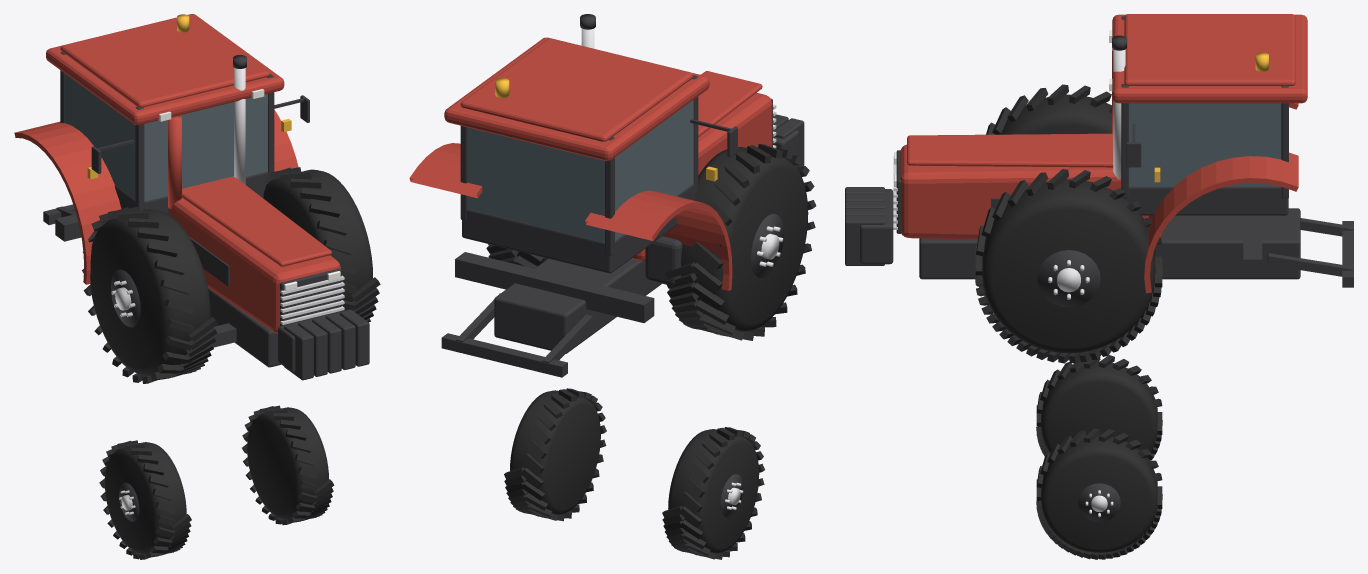
Rendered from Tractor.fbx.
The picture shows the model from 3 angles, left to right: view 1: azimuth 30°, elevation 25°; view 2: azimuth 150°, elevation 25°; view 3: azimuth 270°, elevation 25°; orthographic projection. The views are drawn at different scales.
Parts seen in each view (by area): view 1: RoofCap, GlassFront, Hood, WheelRL_Tire, HoodTop, WheelRL_Wall, Fender-1, Roof, WheelRR_Tire, GlassL, WheelRL_LugsL, WheelFR_Wall (+29 smaller); view 2: RoofCap, GlassBack, Chassis, WheelRL_Wall, Roof, CabBase, Fender-1, GlassL, WheelRL_Tire, RearAxle, WheelRL_LugsL, WheelFR_Wall (+21 smaller); view 3: WheelRR_Wall, RoofCap, GlassR, Chassis, Hood, WheelRR_Tire, HoodTop, WheelFR_Wall, Roof, Fender1, WheelFL_Wall, WheelFR_Tire (+18 smaller).
Part boxes in pixels (x1,y1,x2,y2): RoofCap: (60,14,269,107); GlassFront: (144,94,267,201); Hood: (168,198,340,333); WheelRL_Tire: (90,209,210,375); HoodTop: (181,176,331,266); WheelRL_Wall: (91,231,160,365); Fender-1: (14,121,121,284); Roof: (46,14,284,125); WheelRR_Tire: (263,169,372,310); GlassL: (64,73,135,199); WheelRL_LugsL: (82,206,194,383); WheelFR_Wall: (248,422,294,512); RoofCap: (460,38,693,141); GlassBack: (467,127,604,242); Chassis: (494,258,661,353); WheelRL_Wall: (730,171,805,320); Roof: (444,37,709,161); CabBase: (462,183,696,273); Fender-1: (585,190,732,290); GlassL: (615,100,693,240); WheelRL_Tire: (680,147,808,331); RearAxle: (455,252,654,322); WheelRL_LugsL: (692,144,816,340); WheelFR_Wall: (547,407,599,507); WheelRR_Wall: (995,212,1142,345); RoofCap: (1124,14,1295,85); GlassR: (1129,103,1281,186); Chassis: (919,208,1300,279); Hood: (900,144,1161,239); WheelRR_Tire: (982,179,1155,353); HoodTop: (907,133,1113,167); WheelFR_Wall: (1050,458,1148,547); Roof: (1112,14,1307,103); Fender1: (1144,152,1298,293); WheelFL_Wall: (1050,383,1148,450); WheelFR_Tire: (1041,435,1157,552).
Bounding box in the file's own units: 2.85 × 5.71 × 5.34.
